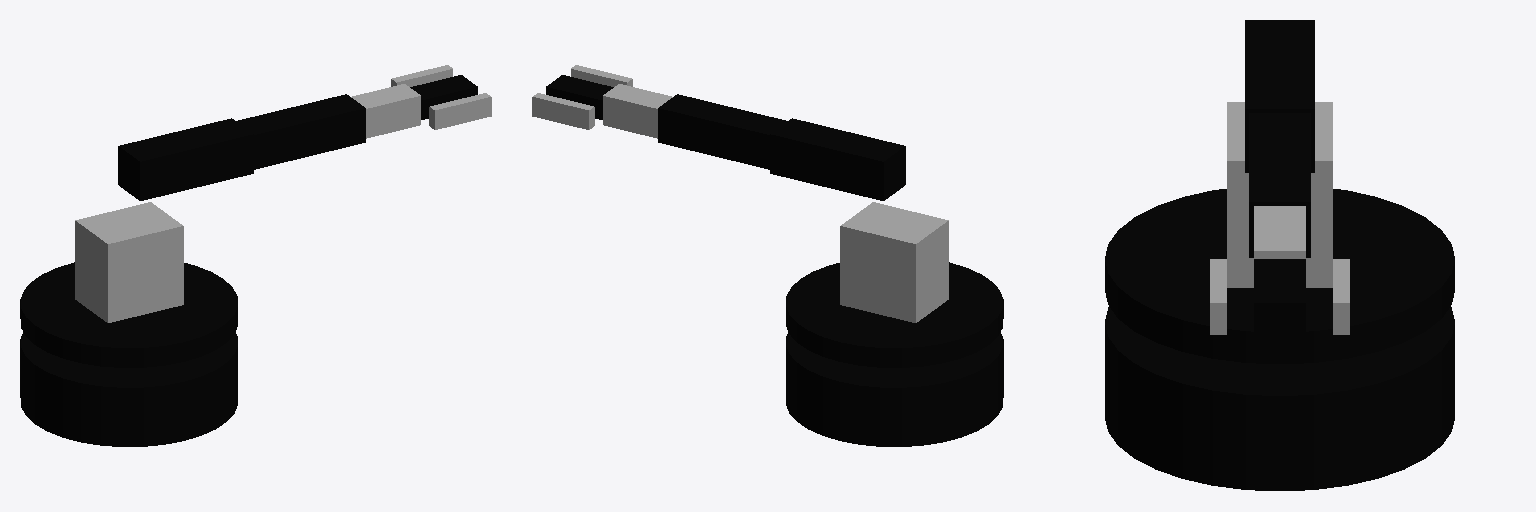
URDF robot description (li_arm):
<?xml version="1.0"?>
<robot name="li_arm">
  <material name="black"><color rgba="0.05 0.05 0.05 1"/></material>
  <material name="grey"><color rgba="0.7 0.7 0.7 1"/></material>

  <link name="base_link">
    <visual><origin xyz="0 0 0" rpy="0 0 0"/><geometry><cylinder length="0.06" radius="0.10"/></geometry><material name="black"/></visual>
    <collision><origin xyz="0 0 0" rpy="0 0 0"/><geometry><cylinder length="0.06" radius="0.10"/></geometry></collision>
    <inertial><origin xyz="0 0 0" rpy="0 0 0"/><mass value="2.0"/><inertia ixx="0.01" iyy="0.01" izz="0.02" ixy="0" ixz="0" iyz="0"/></inertial>
  </link>

  <link name="base_turntable">
    <visual><origin xyz="0 0 0.03" rpy="0 0 0"/><geometry><cylinder length="0.02" radius="0.10"/></geometry><material name="black"/></visual>
    <collision><origin xyz="0 0 0.03" rpy="0 0 0"/><geometry><cylinder length="0.02" radius="0.10"/></geometry></collision>
    <inertial><origin xyz="0 0 0.03" rpy="0 0 0"/><mass value="1.0"/><inertia ixx="0.005" iyy="0.005" izz="0.01" ixy="0" ixz="0" iyz="0"/></inertial>
  </link>

  <joint name="base_yaw" type="revolute">
    <parent link="base_link"/><child link="base_turntable"/>
    <origin xyz="0 0 0.03" rpy="0 0 0"/><axis xyz="0 0 1"/>
    <limit lower="-3.14159" upper="3.14159" effort="10" velocity="2.0"/>
  </joint>

  <link name="shoulder_link">
    <visual><origin xyz="0 0 0.05" rpy="0 0 0"/><geometry><box size="0.08 0.06 0.10"/></geometry><material name="grey"/></visual>
    <collision><origin xyz="0 0 0.05" rpy="0 0 0"/><geometry><box size="0.08 0.06 0.10"/></geometry></collision>
    <inertial><origin xyz="0 0 0.05" rpy="0 0 0"/><mass value="0.8"/><inertia ixx="0.003" iyy="0.003" izz="0.003" ixy="0" ixz="0" iyz="0"/></inertial>
  </link>

  <joint name="shoulder_pitch" type="revolute">
    <parent link="base_turntable"/><child link="shoulder_link"/>
    <origin xyz="0 0 0.02" rpy="0 0 0"/><axis xyz="0 1 0"/>
    <limit lower="-1.57" upper="1.57" effort="10" velocity="1.5"/>
  </joint>

  <link name="upper_arm_link">
    <visual><origin xyz="0.06 0 0.05" rpy="0 0 0"/><geometry><box size="0.12 0.04 0.04"/></geometry><material name="black"/></visual>
    <collision><origin xyz="0.06 0 0.05" rpy="0 0 0"/><geometry><box size="0.12 0.04 0.04"/></geometry></collision>
    <inertial><origin xyz="0.06 0 0.05" rpy="0 0 0"/><mass value="0.6"/><inertia ixx="0.002" iyy="0.002" izz="0.002" ixy="0" ixz="0" iyz="0"/></inertial>
  </link>

  <joint name="elbow_pitch" type="revolute">
    <parent link="shoulder_link"/><child link="upper_arm_link"/>
    <origin xyz="0 0 0.10" rpy="0 0 0"/><axis xyz="0 1 0"/>
    <limit lower="-1.57" upper="1.57" effort="10" velocity="1.5"/>
  </joint>

  <link name="forearm_link">
    <visual><origin xyz="0.06 0 0" rpy="0 0 0"/><geometry><box size="0.12 0.035 0.035"/></geometry><material name="black"/></visual>
    <collision><origin xyz="0.06 0 0" rpy="0 0 0"/><geometry><box size="0.12 0.035 0.035"/></geometry></collision>
    <inertial><origin xyz="0.06 0 0" rpy="0 0 0"/><mass value="0.5"/><inertia ixx="0.0018" iyy="0.0018" izz="0.0018" ixy="0" ixz="0" iyz="0"/></inertial>
  </link>

  <joint name="wrist_pitch" type="revolute">
    <parent link="upper_arm_link"/><child link="forearm_link"/>
    <origin xyz="0.12 0 0.05" rpy="0 0 0"/><axis xyz="0 1 0"/>
    <limit lower="-1.57" upper="1.57" effort="8" velocity="2.0"/>
  </joint>

  <link name="wrist_link">
    <visual><origin xyz="0.03 0 0" rpy="0 0 0"/><geometry><box size="0.06 0.03 0.03"/></geometry><material name="grey"/></visual>
    <collision><origin xyz="0.03 0 0" rpy="0 0 0"/><geometry><box size="0.06 0.03 0.03"/></geometry></collision>
    <inertial><origin xyz="0.03 0 0" rpy="0 0 0"/><mass value="0.3"/><inertia ixx="0.001" iyy="0.001" izz="0.001" ixy="0" ixz="0" iyz="0"/></inertial>
  </link>

  <joint name="wrist_roll" type="revolute">
    <parent link="forearm_link"/><child link="wrist_link"/>
    <origin xyz="0.12 0 0" rpy="0 0 0"/><axis xyz="1 0 0"/>
    <limit lower="-3.14159" upper="3.14159" effort="5" velocity="3.0"/>
  </joint>

  <link name="gripper_base">
    <visual><origin xyz="0.03 0 0" rpy="0 0 0"/><geometry><box size="0.06 0.03 0.02"/></geometry><material name="black"/></visual>
    <collision><origin xyz="0.03 0 0" rpy="0 0 0"/><geometry><box size="0.06 0.03 0.02"/></geometry></collision>
    <inertial><origin xyz="0.03 0 0" rpy="0 0 0"/><mass value="0.2"/><inertia ixx="0.0005" iyy="0.0005" izz="0.0005" ixy="0" ixz="0" iyz="0"/></inertial>
  </link>

  <joint name="gripper_mount" type="fixed">
    <parent link="wrist_link"/><child link="gripper_base"/>
    <origin xyz="0.06 0 0" rpy="0 0 0"/>
  </joint>

  <link name="finger_left">
    <visual><origin xyz="0.03 0.02 0" rpy="0 0 0"/><geometry><box size="0.06 0.01 0.02"/></geometry><material name="grey"/></visual>
    <collision><origin xyz="0.03 0.02 0" rpy="0 0 0"/><geometry><box size="0.06 0.01 0.02"/></geometry></collision>
    <inertial><origin xyz="0.03 0.02 0" rpy="0 0 0"/><mass value="0.05"/><inertia ixx="0.0001" iyy="0.0001" izz="0.0001" ixy="0" ixz="0" iyz="0"/></inertial>
  </link>

  <joint name="finger_left_joint" type="revolute">
    <parent link="gripper_base"/><child link="finger_left"/>
    <origin xyz="0 0.015 0" rpy="0 0 0"/><axis xyz="0 0 1"/>
    <limit lower="0.0" upper="0.5" effort="2" velocity="2.0"/>
  </joint>

  <link name="finger_right">
    <visual><origin xyz="0.03 -0.02 0" rpy="0 0 0"/><geometry><box size="0.06 0.01 0.02"/></geometry><material name="grey"/></visual>
    <collision><origin xyz="0.03 -0.02 0" rpy="0 0 0"/><geometry><box size="0.06 0.01 0.02"/></geometry></collision>
    <inertial><origin xyz="0.03 -0.02 0" rpy="0 0 0"/><mass value="0.05"/><inertia ixx="0.0001" iyy="0.0001" izz="0.0001" ixy="0" ixz="0" iyz="0"/></inertial>
  </link>

  <joint name="finger_right_joint" type="revolute">
    <parent link="gripper_base"/><child link="finger_right"/>
    <origin xyz="0 -0.015 0" rpy="0 0 0"/><axis xyz="0 0 1"/>
    <mimic joint="finger_left_joint" multiplier="-1.0" offset="0.0"/>
    <limit lower="-0.5" upper="0.0" effort="2" velocity="2.0"/>
  </joint>
</robot>

--- Render facts (derived) ---
3 views of the same robot in one strip: view 1: azimuth 30°, elevation 25°; view 2: azimuth 150°, elevation 25°; view 3: azimuth 270°, elevation 25° (orthographic).
Model li_arm with 9 links and 8 joints (7 revolute, 1 fixed), rooted at base_link, posed every joint at zero.
Links seen in each view (by area): view 1: base_link, base_turntable, shoulder_link, upper_arm_link, forearm_link, wrist_link, finger_right, gripper_base, finger_left; view 2: base_link, base_turntable, shoulder_link, upper_arm_link, forearm_link, wrist_link, finger_left, gripper_base, finger_right; view 3: base_link, base_turntable, shoulder_link, upper_arm_link, forearm_link, gripper_base, wrist_link, finger_left, finger_right.
Boxes of the visible links, <box> form: base_link: <box>20,332,237,446</box>; base_turntable: <box>20,262,237,367</box>; shoulder_link: <box>75,202,183,322</box>; upper_arm_link: <box>118,118,253,200</box>; forearm_link: <box>236,94,365,169</box>; wrist_link: <box>351,84,420,138</box>; finger_right: <box>429,93,491,129</box>; gripper_base: <box>410,75,477,119</box>; finger_left: <box>391,65,452,86</box>; base_link: <box>786,332,1003,446</box>; base_turntable: <box>786,262,1003,367</box>; shoulder_link: <box>840,202,948,322</box>; upper_arm_link: <box>770,118,905,200</box>; forearm_link: <box>658,94,787,169</box>; wrist_link: <box>603,84,672,138</box>; finger_left: <box>532,93,594,129</box>; gripper_base: <box>546,75,613,119</box>; finger_right: <box>571,65,632,86</box>; base_link: <box>1105,307,1454,490</box>; base_turntable: <box>1105,189,1454,363</box>; shoulder_link: <box>1227,102,1332,287</box>; upper_arm_link: <box>1245,20,1314,172</box>; forearm_link: <box>1249,113,1310,257</box>; gripper_base: <box>1254,259,1305,334</box>; wrist_link: <box>1254,206,1305,258</box>; finger_left: <box>1333,259,1349,334</box>; finger_right: <box>1210,259,1226,334</box>.
Size in the robot's own frame: 0.46 by 0.2 by 0.25 metres.
Geometry: primitives only (box / cylinder / sphere), no mesh files.
